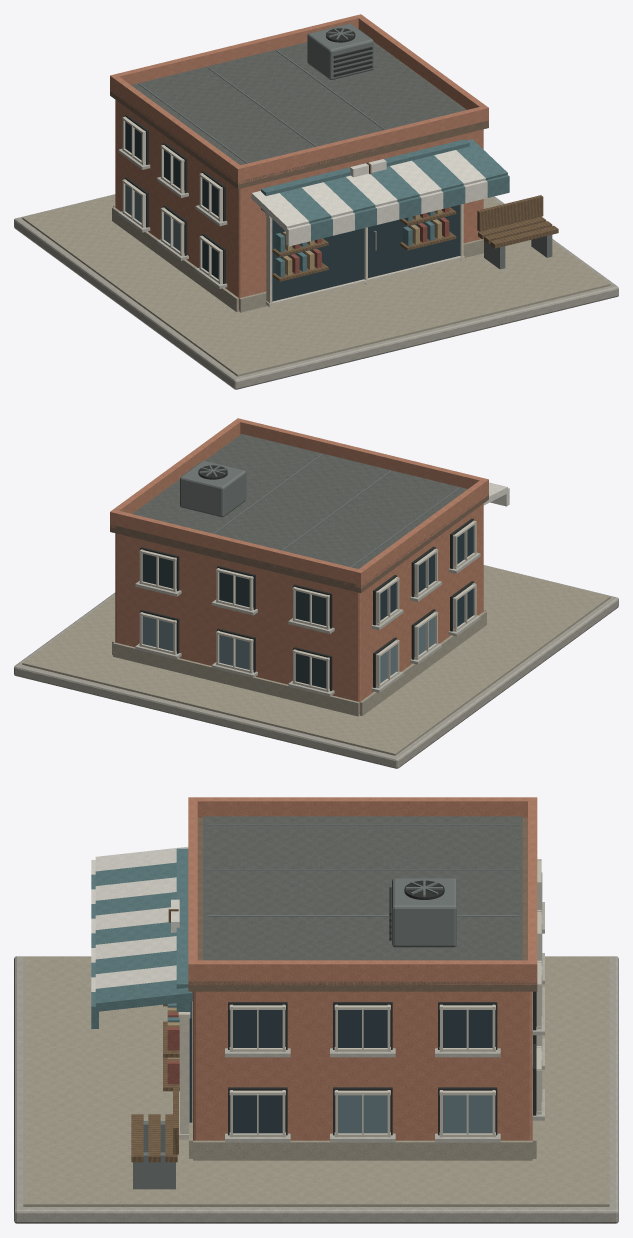
The model's file is EXP_SHOP_BOOKS.glb.
The picture shows the model from 3 angles, top to bottom: view 1: azimuth 30°, elevation 25°; view 2: azimuth 150°, elevation 25°; view 3: azimuth 270°, elevation 25°; orthographic projection. The views are drawn at different scales.
Visible parts, largest first — view 1: EXP_SHOP_BOOKS_Visual; view 2: EXP_SHOP_BOOKS_Visual; view 3: EXP_SHOP_BOOKS_Visual.
Part boxes in pixels (box(x1,y1,x2,y2)): EXP_SHOP_BOOKS_Visual: box(14, 14, 618, 389); EXP_SHOP_BOOKS_Visual: box(14, 418, 618, 768); EXP_SHOP_BOOKS_Visual: box(14, 797, 618, 1223).
Size of what is drawn, in the model's own units: 3.92 by 1.8 by 3.92.
Materials: 17 (12 with a texture image).
